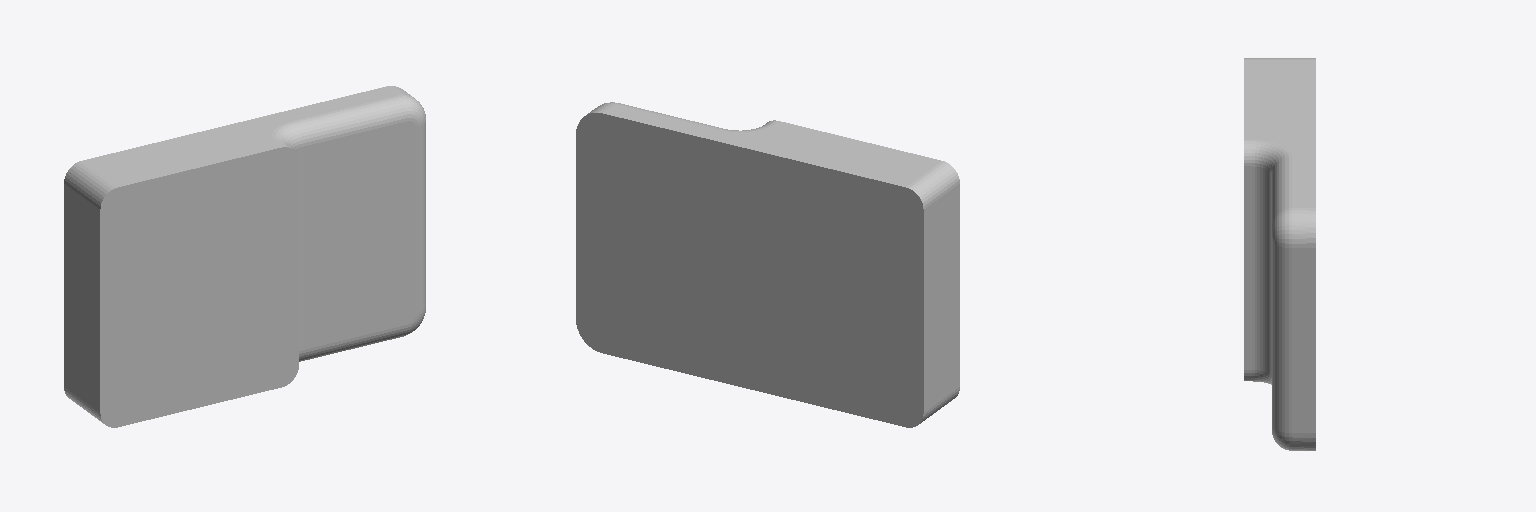
The model's file is torso_fix.obj.
3 renders of one model, left to right at view 1: azimuth 30°, elevation 25°; view 2: azimuth 150°, elevation 25°; view 3: azimuth 270°, elevation 25°, orthographic.
Parts seen in each view (by area): view 1: torso_fix; view 2: torso_fix; view 3: torso_fix.
Boxes of the visible parts, <box> form: torso_fix: <box>64,86,425,427</box>; torso_fix: <box>576,102,959,427</box>; torso_fix: <box>1244,58,1315,450</box>.
Size of the model in its own units: 0.397 by 0.262 by 0.072.